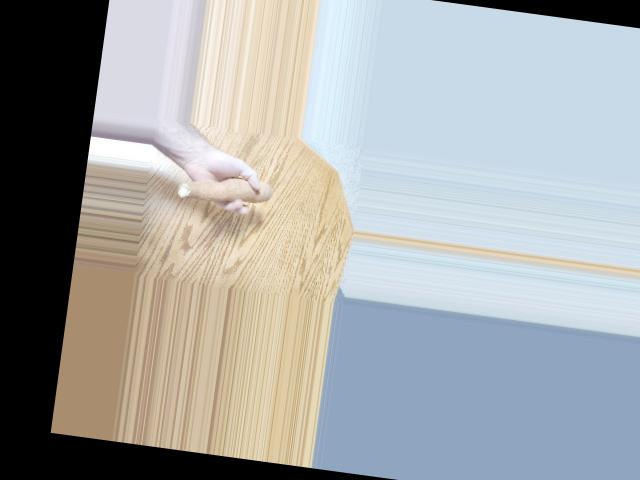sweet_potato: (184, 169, 268, 210)
